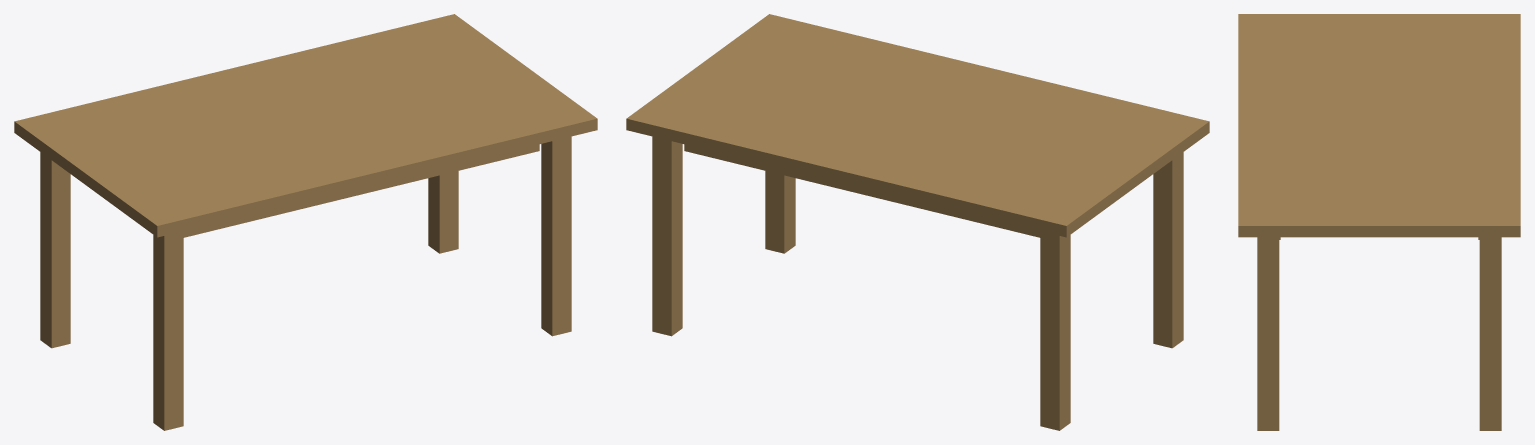
File: dining_table.glb
3 views of the same model, side by side, from view 1: azimuth 30°, elevation 25°; view 2: azimuth 150°, elevation 25°; view 3: azimuth 270°, elevation 25° (orthographic).
Parts seen in each view (by area): view 1: dining_table; view 2: dining_table; view 3: dining_table.
Part boxes in pixels (x1,y1,x2,y2): dining_table: [14, 14, 597, 430]; dining_table: [626, 14, 1209, 430]; dining_table: [1238, 14, 1520, 430].
Size of the model in its own units: 1.6 by 0.75 by 0.9.
